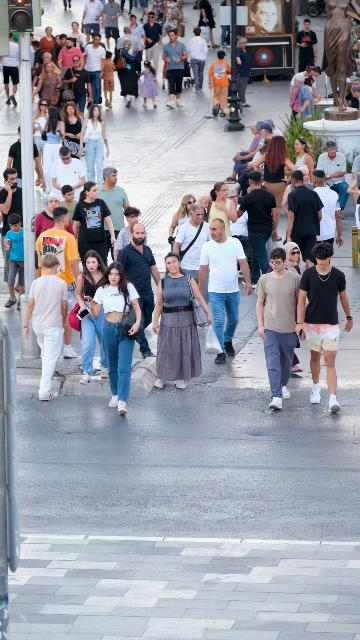person: (295, 241, 355, 415), (83, 261, 142, 415), (152, 252, 214, 390), (196, 218, 253, 364), (254, 247, 303, 410), (36, 206, 81, 360), (23, 252, 69, 402), (115, 223, 161, 360), (236, 169, 280, 289), (253, 135, 298, 242), (75, 250, 110, 385), (285, 170, 325, 272), (71, 181, 116, 270), (226, 122, 274, 196), (172, 203, 212, 282), (280, 242, 304, 372), (6, 126, 46, 195), (311, 169, 344, 252), (79, 105, 110, 191), (96, 166, 130, 234), (197, 181, 238, 237), (2, 213, 25, 311), (226, 122, 263, 182), (225, 189, 251, 273), (161, 29, 188, 109), (317, 140, 349, 207), (40, 106, 64, 195), (51, 146, 87, 203), (115, 37, 143, 108), (34, 193, 74, 242), (112, 206, 144, 263), (82, 33, 107, 105), (62, 55, 93, 113), (168, 194, 199, 251), (208, 50, 232, 118), (0, 168, 23, 238), (185, 27, 209, 94), (30, 62, 63, 110), (1, 31, 20, 107), (61, 101, 84, 162), (31, 52, 62, 97), (347, 156, 360, 261), (290, 75, 315, 126), (295, 18, 318, 73), (143, 12, 163, 71), (289, 66, 315, 110), (80, 0, 104, 47), (236, 37, 252, 107), (292, 136, 315, 184), (137, 60, 159, 109), (58, 37, 87, 74), (102, 0, 122, 53), (197, 0, 219, 48), (32, 98, 51, 150), (99, 51, 116, 108), (129, 15, 146, 61), (162, 0, 183, 37), (58, 184, 80, 218), (219, 0, 232, 48), (67, 22, 87, 53), (149, 0, 167, 34), (117, 26, 138, 50), (343, 86, 360, 115), (39, 27, 55, 57), (294, 167, 314, 190), (30, 41, 43, 76), (49, 35, 61, 67), (263, 119, 284, 137), (310, 66, 321, 99), (345, 76, 360, 97), (138, 0, 149, 22), (58, 34, 68, 49), (122, 0, 131, 15), (30, 33, 40, 45), (64, 0, 71, 11)
